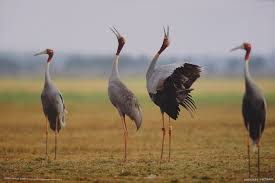seu_dau_do: (146, 22, 203, 159), (228, 40, 269, 178), (104, 26, 142, 162), (29, 49, 67, 162)
